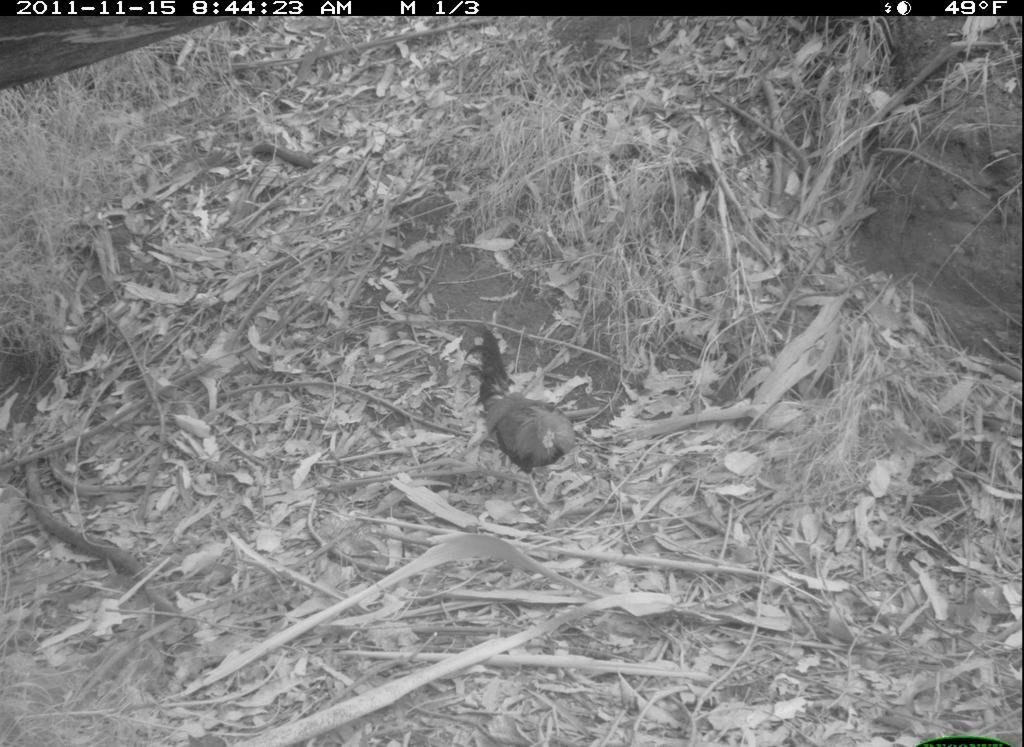bird: (468, 331, 581, 472)
